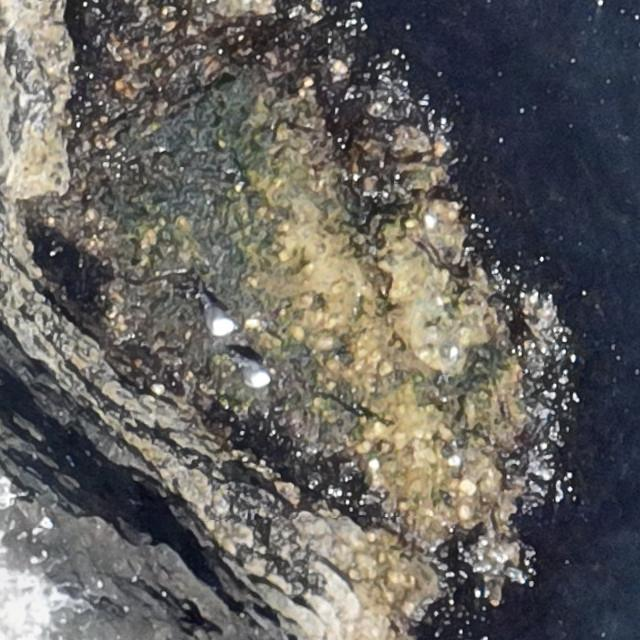umineko: (205, 301, 233, 333), (240, 363, 268, 389)
